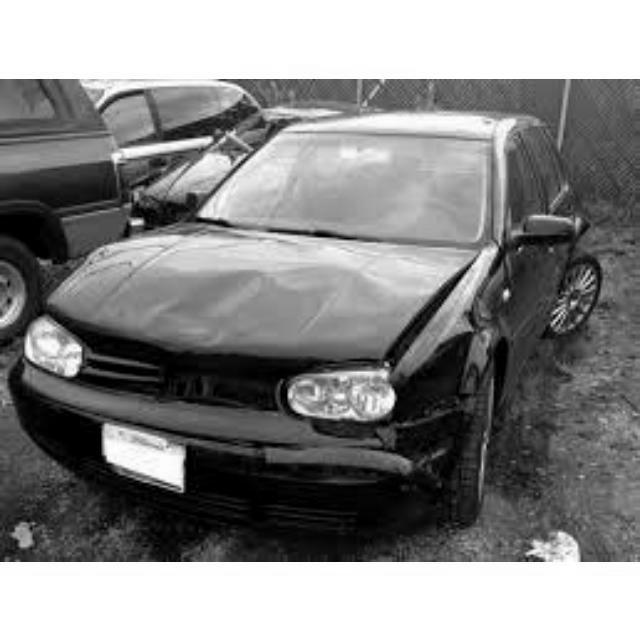bonnet-dent: (72, 227, 434, 363)
front-bumper-dent: (55, 424, 367, 525)
